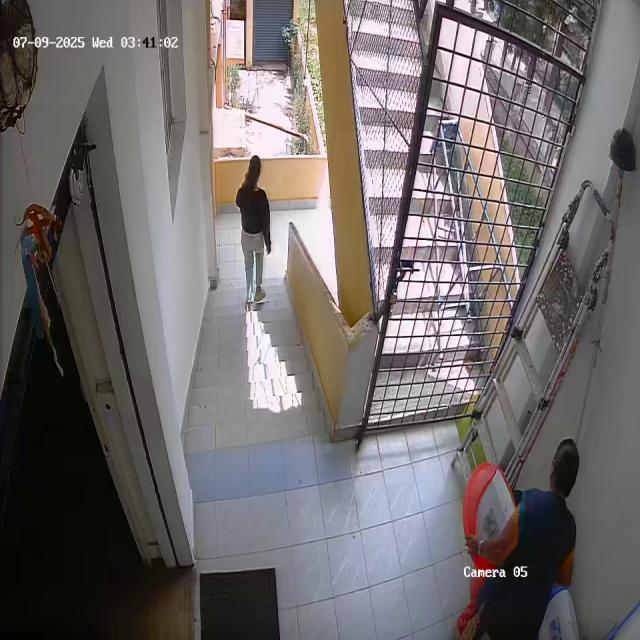person: (483, 438, 591, 640), (232, 153, 275, 302)
